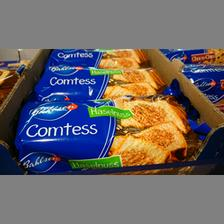Kuchen: (15, 98, 212, 172), (30, 63, 170, 99), (46, 50, 154, 66)
